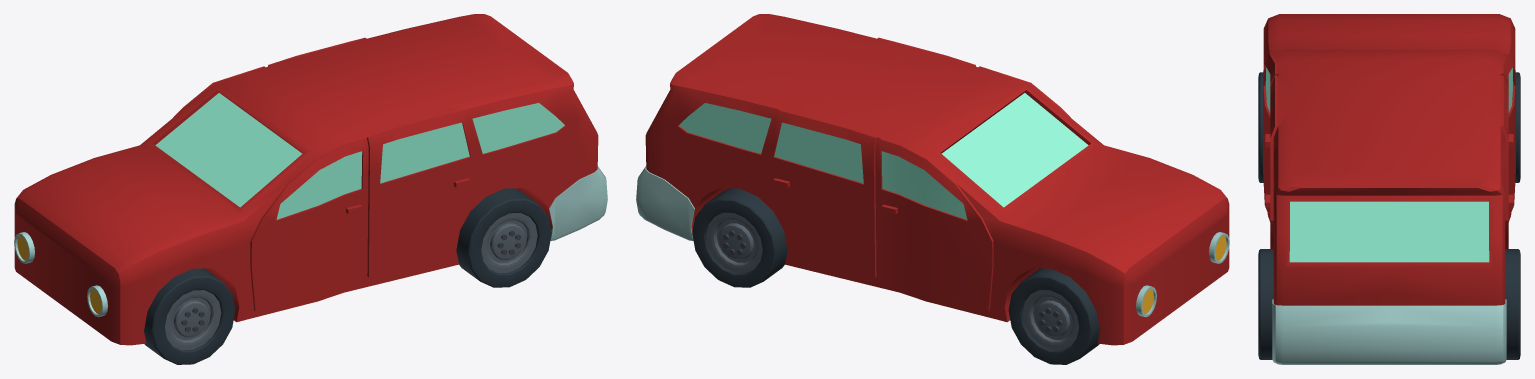
The model's file is SUVRed.fbx.
3 views of the same model, side by side, from view 1: azimuth 30°, elevation 25°; view 2: azimuth 150°, elevation 25°; view 3: azimuth 270°, elevation 25° (orthographic). The views are drawn at different scales.
Visible parts, largest first — view 1: SUV.002, Wheels.002; view 2: SUV.002, Wheels.002; view 3: SUV.002, Wheels.002.
Part boxes in pixels (x1,y1,x2,y2): SUV.002: [14, 14, 607, 345]; Wheels.002: [144, 188, 551, 364]; SUV.002: [636, 14, 1229, 345]; Wheels.002: [692, 188, 1099, 364]; SUV.002: [1263, 14, 1515, 364]; Wheels.002: [1258, 72, 1520, 359].
Size of the model in its own units: 471 by 166 by 186.
